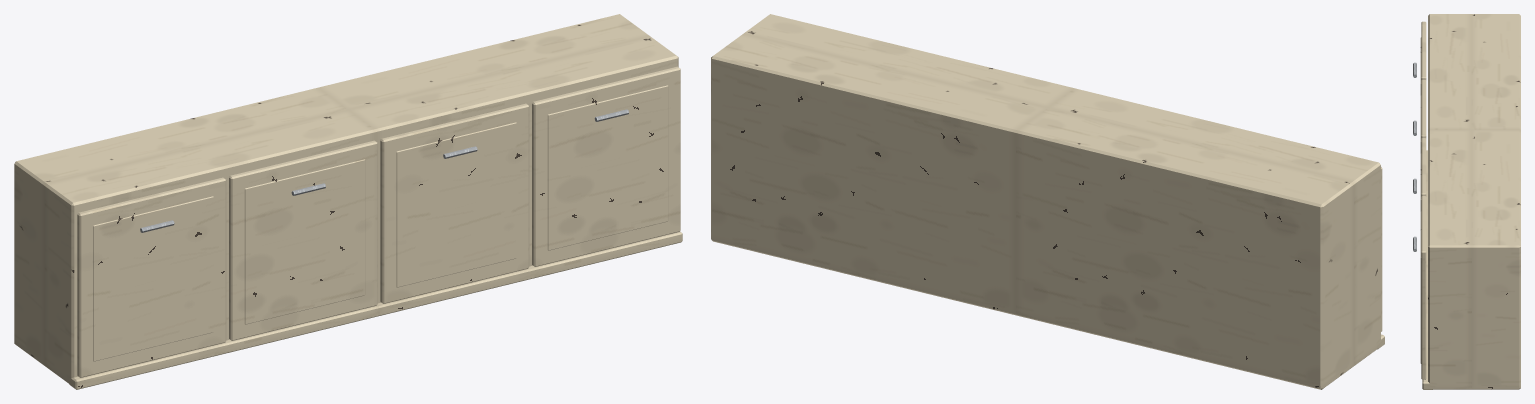
Rendered from wall_cupboard.glb.
3 views of the same model, side by side, from view 1: azimuth 30°, elevation 25°; view 2: azimuth 150°, elevation 25°; view 3: azimuth 270°, elevation 25° (orthographic). The views are drawn at different scales.
Parts seen in each view (by area): view 1: p; view 2: p; view 3: p.
Boxes of the visible parts, x1,y1,x2,y2 form: p: (14, 14, 682, 389); p: (711, 14, 1384, 389); p: (1413, 14, 1520, 389).
Bounding box in the file's own units: 1.9 × 0.55 × 0.372.
Materials: 2 (2 with a texture image).
